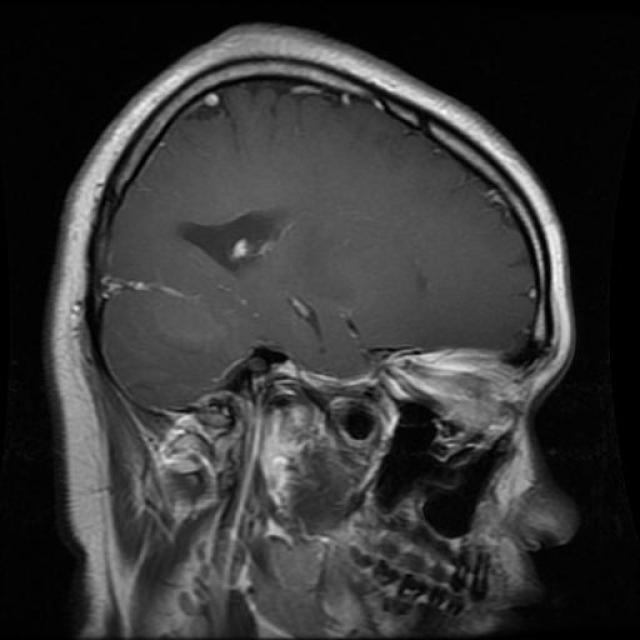glioma: (180, 205, 288, 270)
